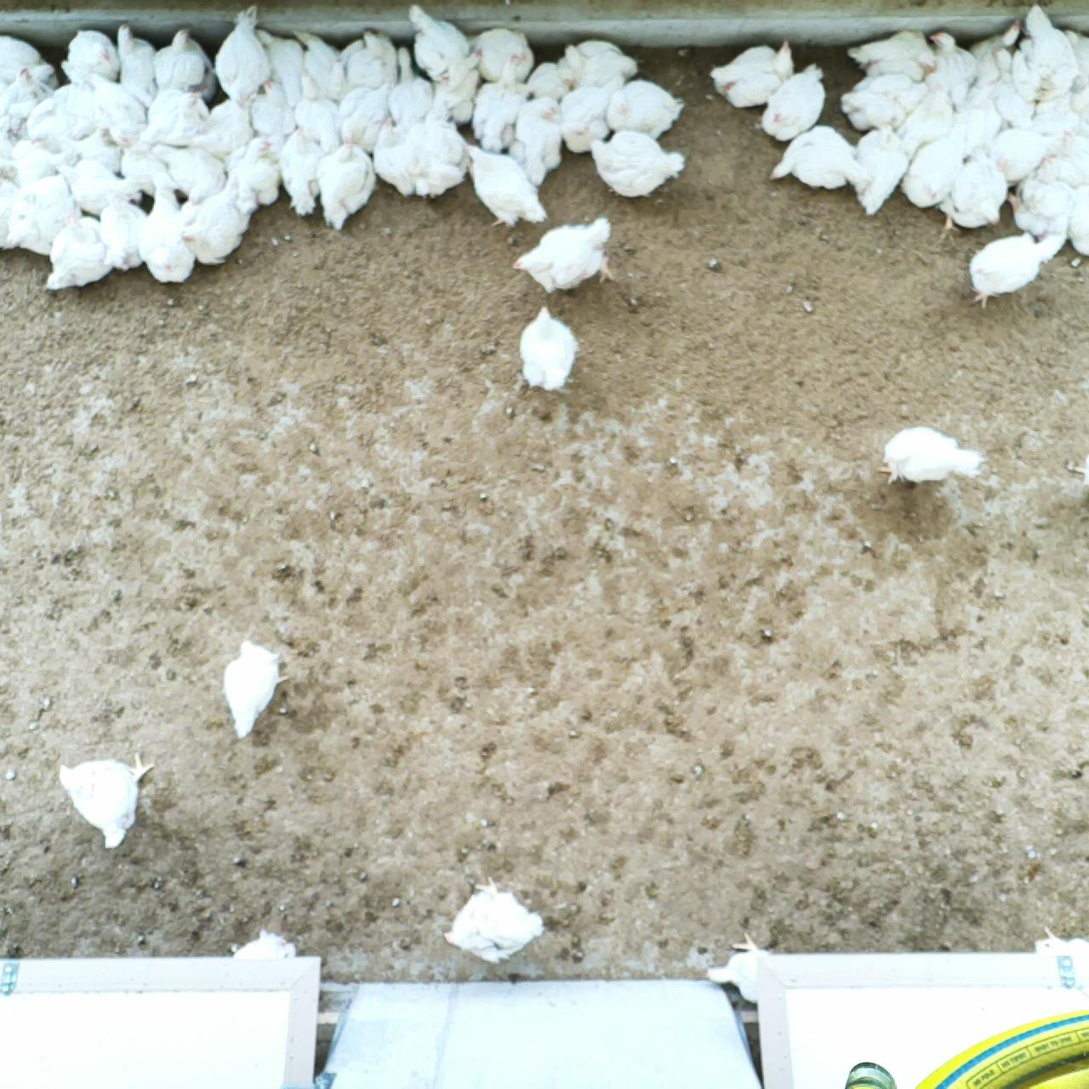chicken: (56, 746, 158, 855), (439, 870, 545, 968), (511, 213, 619, 295), (875, 422, 988, 492), (965, 231, 1063, 311), (934, 144, 1009, 247), (1010, 1, 1082, 106), (221, 636, 291, 744), (465, 144, 548, 232), (589, 128, 689, 200), (178, 172, 251, 268), (401, 103, 472, 201), (708, 37, 795, 112), (0, 173, 78, 255), (850, 119, 912, 220), (136, 186, 199, 285), (212, 3, 268, 111), (516, 301, 581, 393), (471, 52, 529, 155), (838, 72, 929, 137), (759, 61, 830, 144), (42, 210, 112, 294), (765, 124, 854, 190), (404, 3, 482, 78), (150, 24, 220, 107), (317, 139, 377, 233), (505, 94, 565, 188), (557, 74, 629, 152), (131, 85, 213, 153), (965, 15, 1028, 103), (701, 929, 772, 1007), (899, 131, 966, 208), (149, 143, 229, 207), (54, 157, 142, 215), (85, 71, 149, 150), (924, 26, 981, 112), (605, 80, 685, 141), (424, 47, 485, 126), (252, 23, 308, 108), (224, 135, 284, 214), (978, 46, 1035, 128), (291, 28, 351, 105), (96, 187, 149, 274), (278, 124, 326, 220), (898, 81, 958, 156), (291, 72, 345, 155), (468, 22, 537, 86), (844, 26, 931, 76), (986, 130, 1067, 183), (338, 79, 398, 150), (112, 21, 160, 109), (247, 80, 297, 162), (387, 44, 438, 124), (186, 97, 253, 157), (372, 115, 419, 198), (944, 92, 1002, 158), (0, 67, 53, 138), (565, 38, 640, 87), (1009, 181, 1074, 235), (59, 59, 101, 142), (114, 145, 178, 198), (0, 34, 60, 89), (346, 30, 401, 90), (65, 27, 121, 83), (515, 58, 577, 105), (1030, 90, 1089, 138), (230, 924, 303, 962), (26, 85, 70, 148), (0, 138, 64, 181), (1059, 24, 1089, 95), (1066, 184, 1089, 258)
